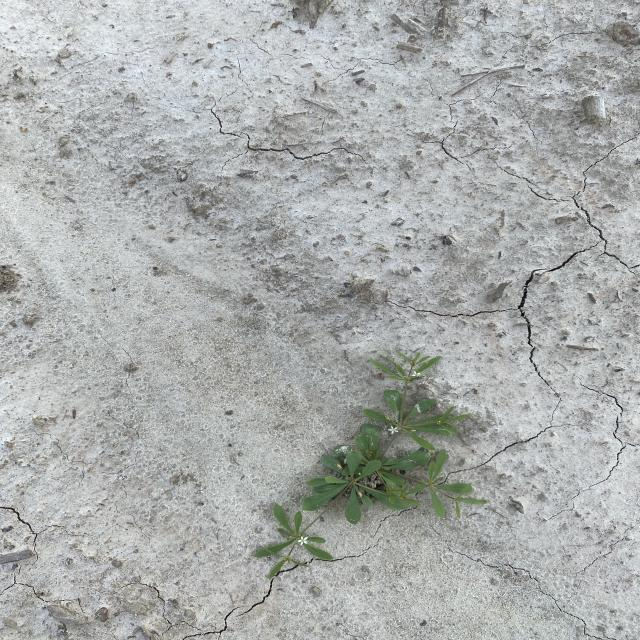Carpetweed: (248, 346, 490, 582)
